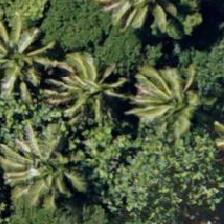coconut_tree: (32, 49, 122, 139), (126, 54, 216, 144), (0, 121, 71, 211), (0, 13, 66, 103)
